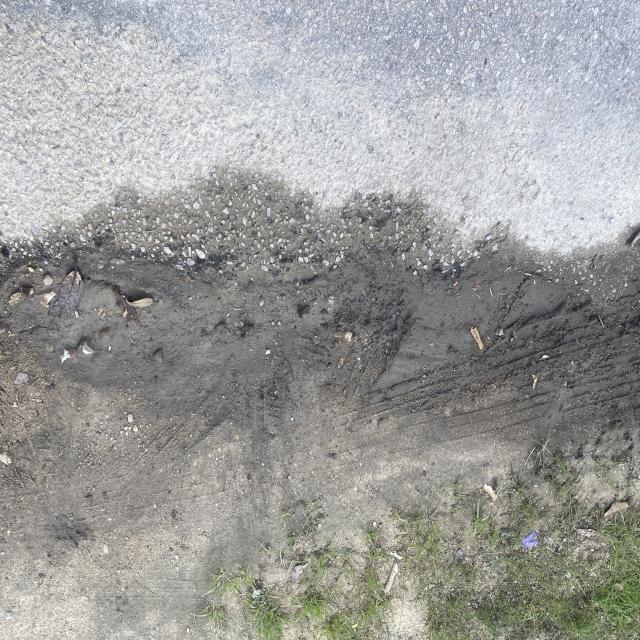pothole: (38, 175, 552, 411)
